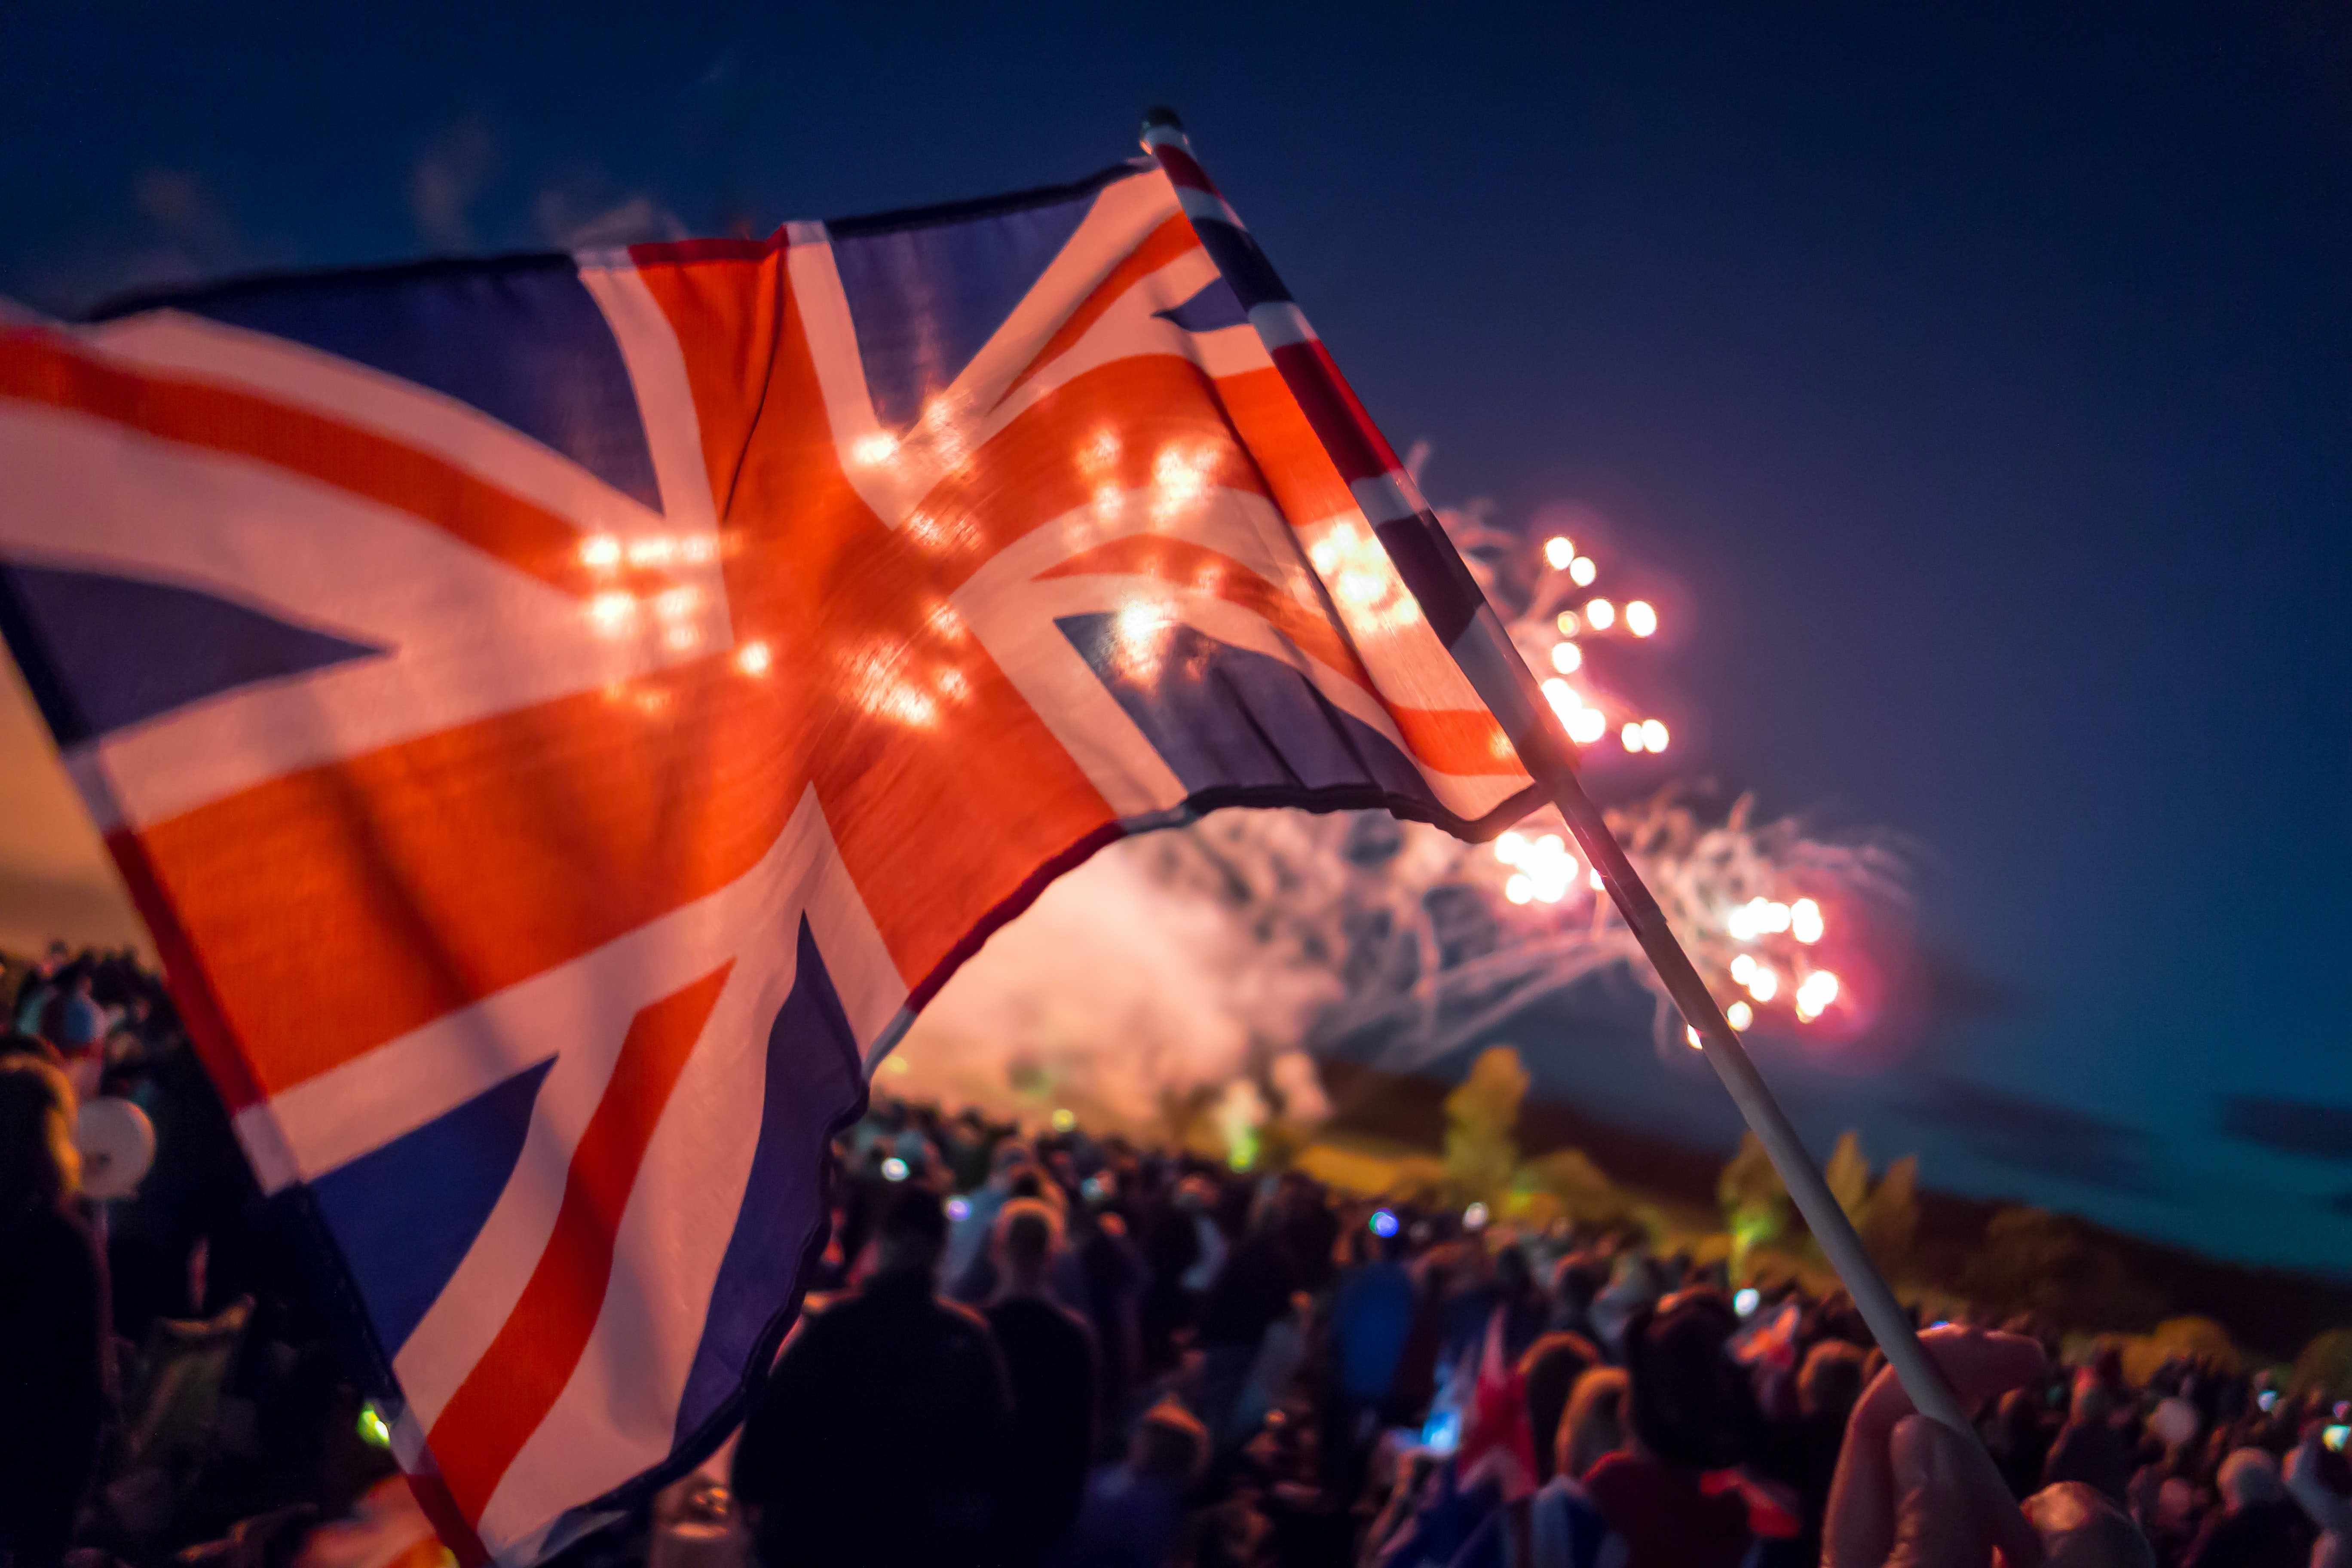Flag: (0, 100, 1577, 1561)
